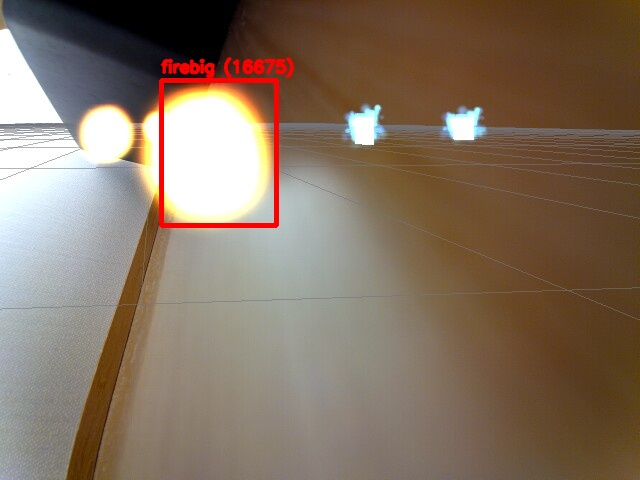firebig: (161, 80, 276, 225)
